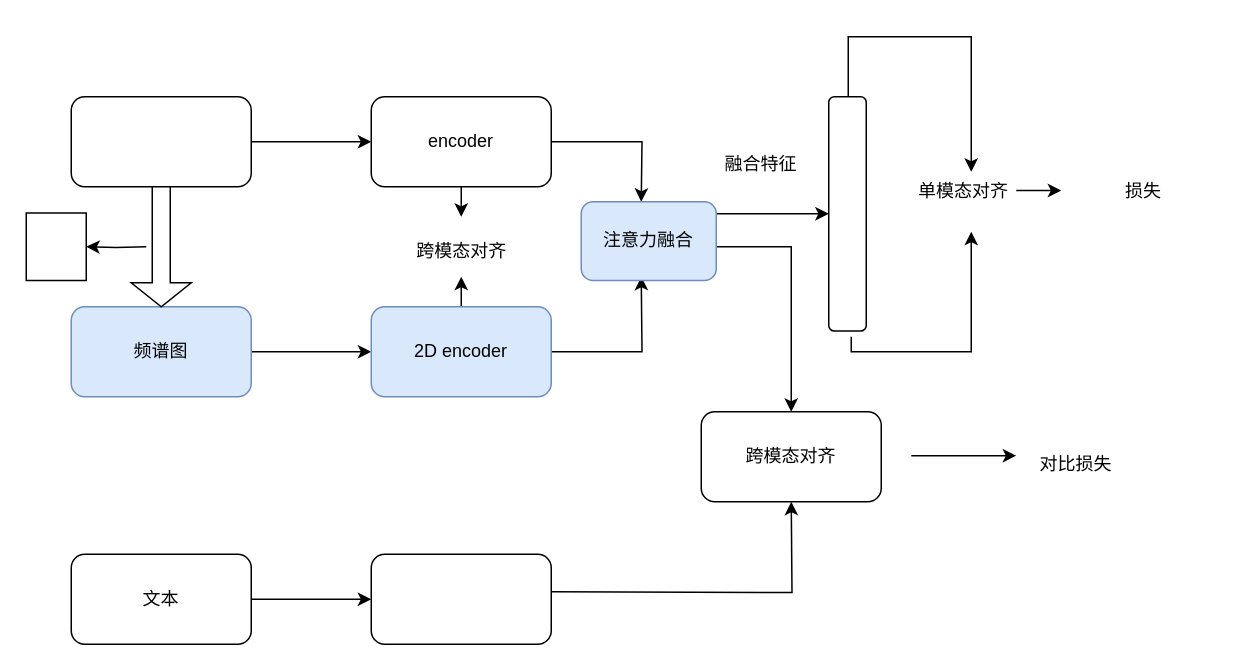
Some shapes in this 1253 by 671 pixel diagram are drawn without their labels. The shapes that lost their labels are listed below. From the top down, each one's centre as x and y in pixels, then its label:
At pixel 160 141: "原始心电图信号".
At pixel 55 246: "傅里叶变换".
At pixel 460 598: "LLM".
